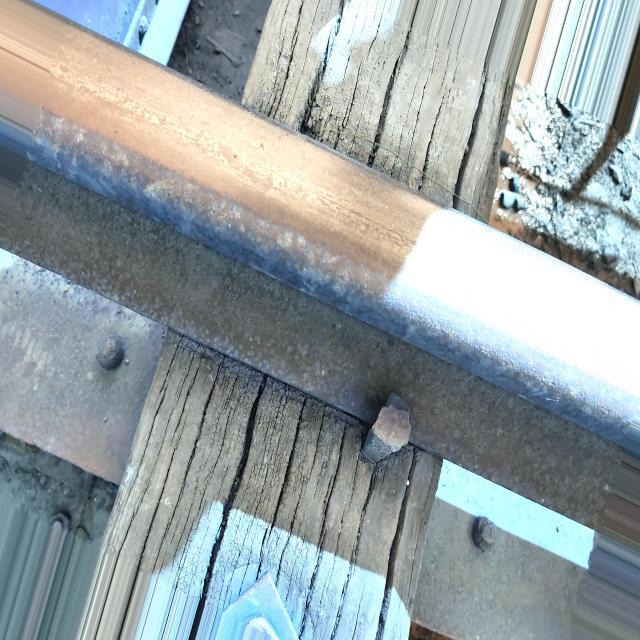Good Fasteners: (362, 394, 411, 462)
